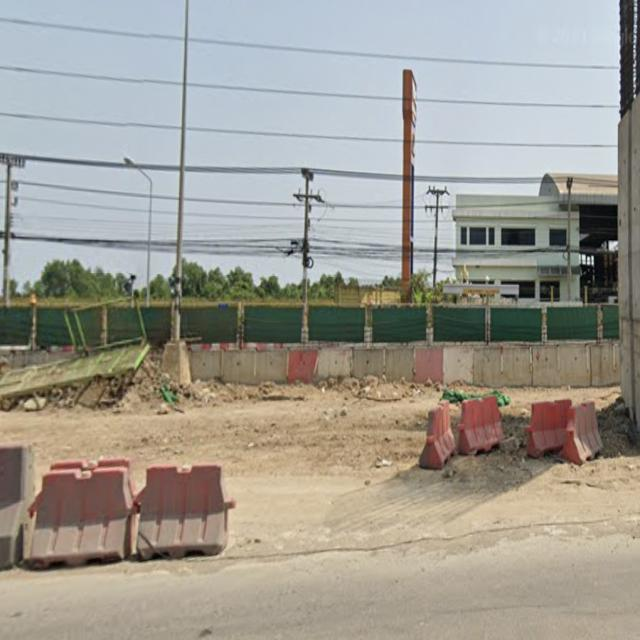fallen_object: (13, 445, 155, 577), (133, 455, 238, 576), (0, 425, 49, 594), (420, 325, 542, 389), (529, 327, 636, 399), (513, 402, 610, 472), (452, 375, 509, 491), (175, 337, 296, 387), (272, 325, 337, 393), (405, 395, 453, 485), (343, 335, 419, 387)
